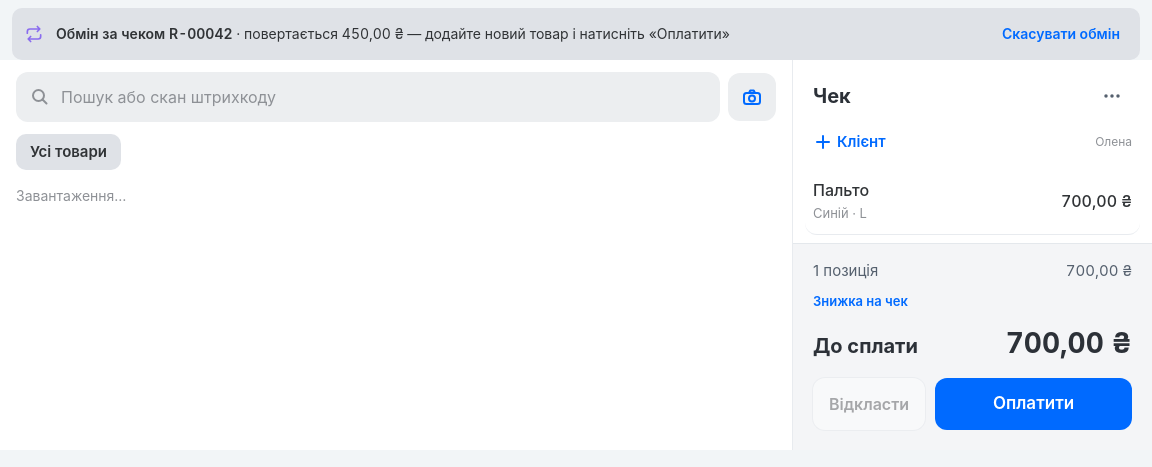
Test: RegisterPage — the sale half of an exchange › names the receipt the goods come back from, and cancelling keeps the cart as a plain sale
Expected: the element with test id "exchange-strip" shows "Обмін за чеком R-00042", [12,8,1140,60]
Expected: the element with test id "exchange-strip" shows "450,00 ₴", [342,25,404,42]
Click the button "Скасувати обмін": (1061, 34) [994,16,1128,52]
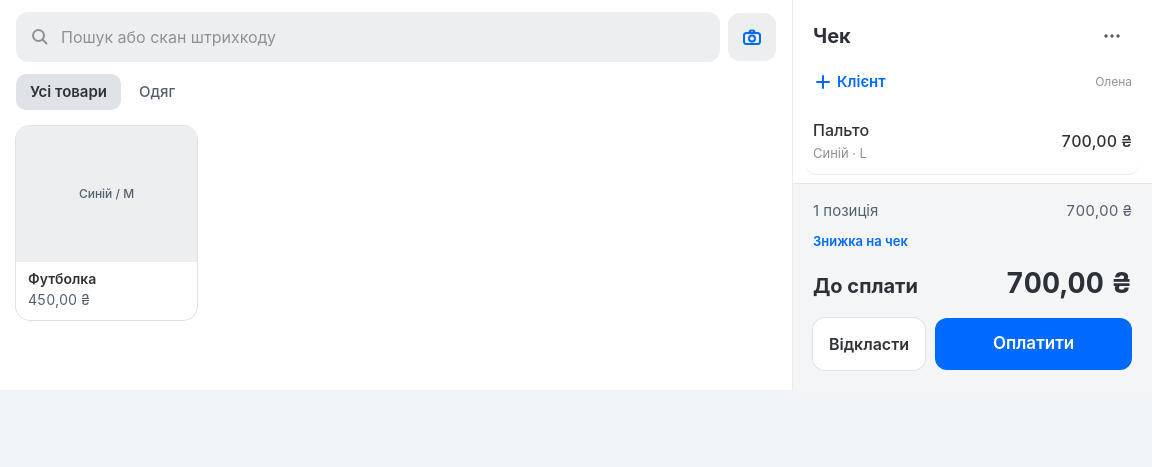
Result: the element with test id "exchange-strip" is gone
Result: the button with test id "park-cart" is enabled at [813,318,925,370]
